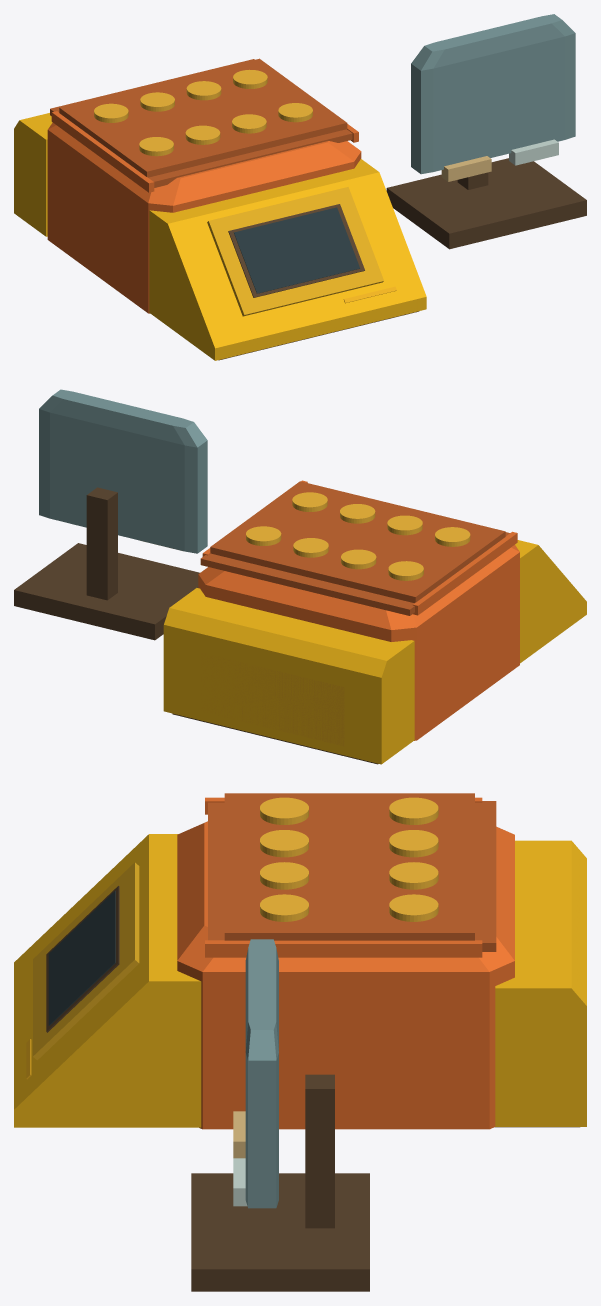
File: octo-documentary.glb
3 views of the same model, one above another, from view 1: azimuth 30°, elevation 25°; view 2: azimuth 150°, elevation 25°; view 3: azimuth 270°, elevation 25° (orthographic). The views are drawn at different scales.
Parts seen in each view (by area): view 1: Yellow_sloping_operator_fascia, Plaque_paper_frame, Orange_main_shell, Raised_closed_lid_top, Plaque_dark_base, Inactive_dark_touchscreen, Door_shoulder_trim, Rear_yellow_shell, Orange_top_perimeter, Fixed_side_guard_lip_-137, Inactive_screen_bezel, Plaque_Change_Shape (+9 smaller); view 2: Rear_yellow_shell, Plaque_paper_frame, Orange_main_shell, Raised_closed_lid_top, Plaque_dark_base, Rear_blank_outer_plate, Yellow_sloping_operator_fascia, Plaque_foot, Orange_top_perimeter, Fixed_side_guard_lip_-137, Fixed_dry_external_cover_2_2, Fixed_dry_external_cover_1_2 (+6 smaller); view 3: Orange_main_shell, Yellow_sloping_operator_fascia, Raised_closed_lid_top, Rear_yellow_shell, Plaque_dark_base, Plaque_paper_frame, Door_shoulder_trim, Orange_top_perimeter, Inactive_dark_touchscreen, Plaque_foot, Fixed_side_guard_lip_137, Fixed_dry_external_cover_1_3 (+9 smaller).
Boxes of the visible parts, bbox=[...] form: Yellow_sloping_operator_fascia: bbox=[149, 159, 426, 360]; Plaque_paper_frame: bbox=[411, 14, 575, 174]; Orange_main_shell: bbox=[47, 122, 361, 313]; Raised_closed_lid_top: bbox=[59, 58, 347, 177]; Plaque_dark_base: bbox=[386, 158, 586, 249]; Inactive_dark_touchscreen: bbox=[234, 207, 360, 293]; Door_shoulder_trim: bbox=[207, 187, 383, 316]; Rear_yellow_shell: bbox=[14, 113, 52, 236]; Orange_top_perimeter: bbox=[50, 59, 352, 187]; Fixed_side_guard_lip_-137: bbox=[51, 111, 154, 192]; Inactive_screen_bezel: bbox=[228, 204, 364, 297]; Plaque_Change_Shape: bbox=[441, 156, 491, 181]; Rear_yellow_shell: bbox=[163, 588, 414, 764]; Plaque_paper_frame: bbox=[39, 389, 207, 553]; Orange_main_shell: bbox=[198, 545, 519, 740]; Raised_closed_lid_top: bbox=[210, 481, 505, 603]; Plaque_dark_base: bbox=[14, 543, 199, 640]; Rear_blank_outer_plate: bbox=[201, 653, 344, 746]; Yellow_sloping_operator_fascia: bbox=[515, 540, 586, 663]; Plaque_foot: bbox=[86, 487, 117, 600]; Orange_top_perimeter: bbox=[200, 532, 509, 615]; Fixed_side_guard_lip_-137: bbox=[412, 531, 517, 615]; Fixed_dry_external_cover_2_2: bbox=[387, 515, 422, 535]; Fixed_dry_external_cover_1_2: bbox=[341, 549, 376, 569]; Orange_main_shell: bbox=[177, 821, 514, 1129]; Yellow_sloping_operator_fascia: bbox=[14, 834, 201, 1127]; Raised_closed_lid_top: bbox=[224, 793, 474, 940]; Rear_yellow_shell: bbox=[495, 840, 586, 1126]; Plaque_dark_base: bbox=[191, 1173, 369, 1291]; Plaque_paper_frame: bbox=[245, 939, 278, 1208]; Door_shoulder_trim: bbox=[33, 862, 139, 1060]; Orange_top_perimeter: bbox=[208, 801, 496, 951]; Inactive_dark_touchscreen: bbox=[48, 891, 115, 1025]; Plaque_foot: bbox=[305, 1074, 334, 1228]; Fixed_side_guard_lip_137: bbox=[205, 940, 482, 957]; Fixed_dry_external_cover_1_3: bbox=[389, 862, 438, 889].
Size of the model in its own units: 0.593 by 0.232 by 0.465.
